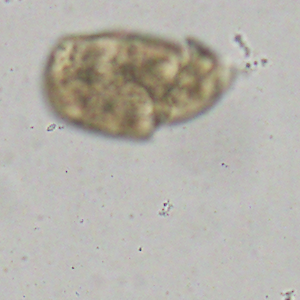Fasciola_hepatica_egg: (41, 27, 238, 142)
